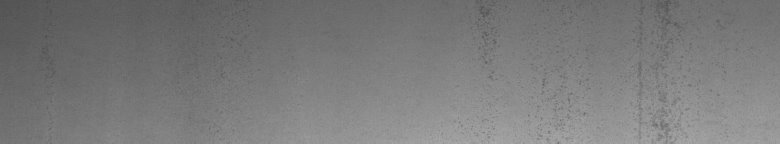ib: (473, 4, 572, 134)
